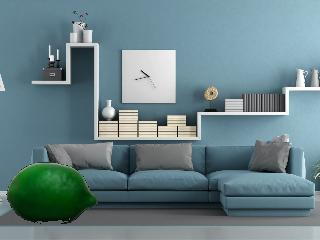lime: (7, 163, 98, 226)
